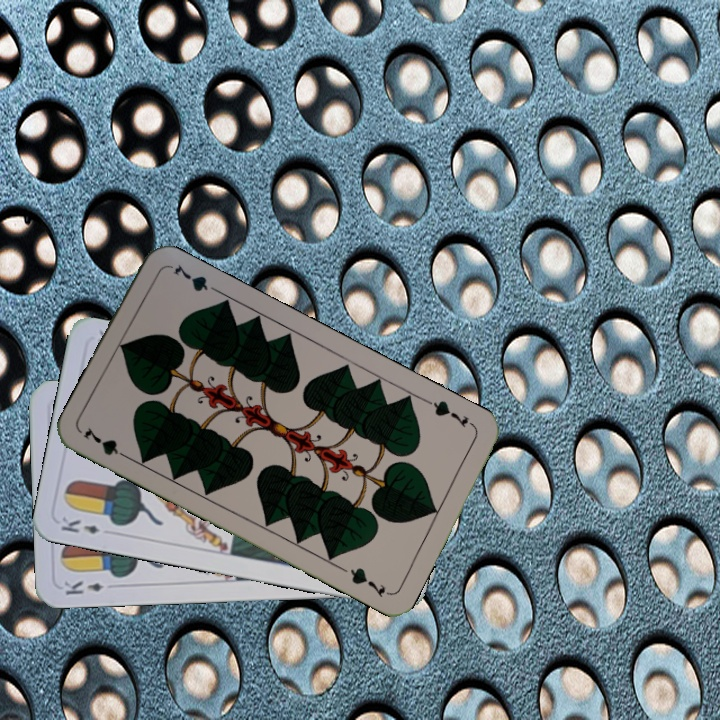EK: (57, 513, 103, 537), (60, 577, 106, 598)
G7: (79, 423, 133, 463), (423, 396, 478, 431)
